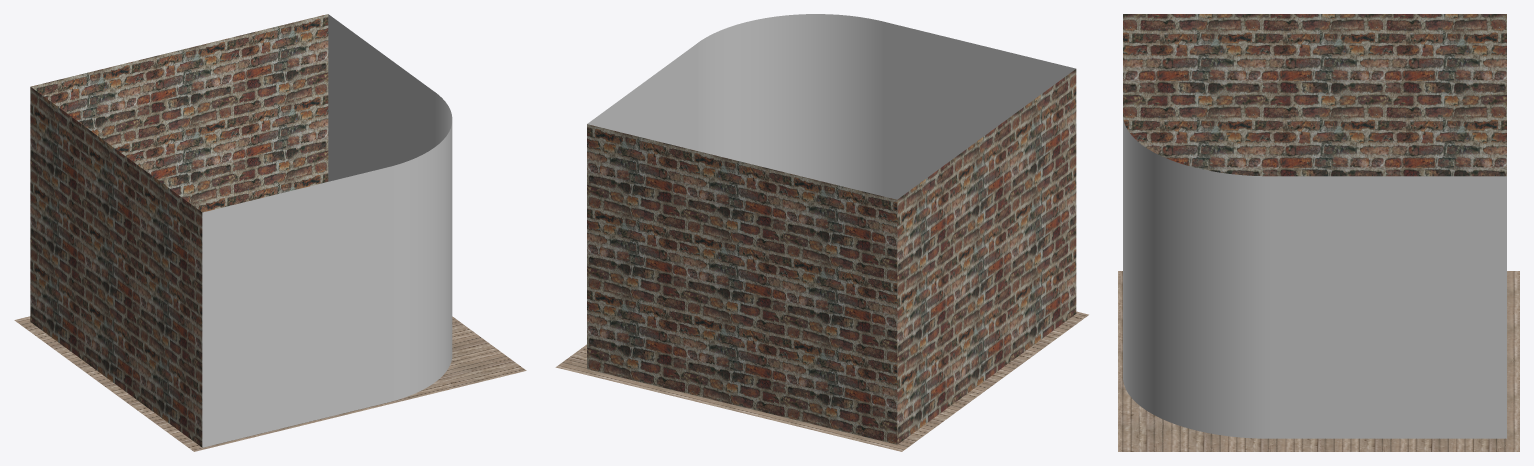
File: forge1.3.FBX
3 views of the same model, side by side, from view 1: azimuth 30°, elevation 25°; view 2: azimuth 150°, elevation 25°; view 3: azimuth 270°, elevation 25° (orthographic). The views are drawn at different scales.
Visible parts, largest first — view 1: ForgeArea, ForgeAreaInvis, Plane001; view 2: ForgeArea, ForgeAreaInvis, Plane001; view 3: ForgeAreaInvis, ForgeArea, Plane001.
Part boxes in pixels (left/top/right/bottom): ForgeArea: left=30, top=14, right=328, bottom=447; ForgeAreaInvis: left=202, top=14, right=452, bottom=447; Plane001: left=14, top=316, right=526, bottom=451; ForgeArea: left=587, top=69, right=1076, bottom=444; ForgeAreaInvis: left=587, top=14, right=1075, bottom=199; Plane001: left=555, top=311, right=1088, bottom=451; ForgeAreaInvis: left=1123, top=118, right=1506, bottom=438; ForgeArea: left=1123, top=14, right=1506, bottom=176; Plane001: left=1118, top=271, right=1519, bottom=451.
Bounding box in the file's own units: 160 × 108 × 150.
Materials: 2 (2 with a texture image).
